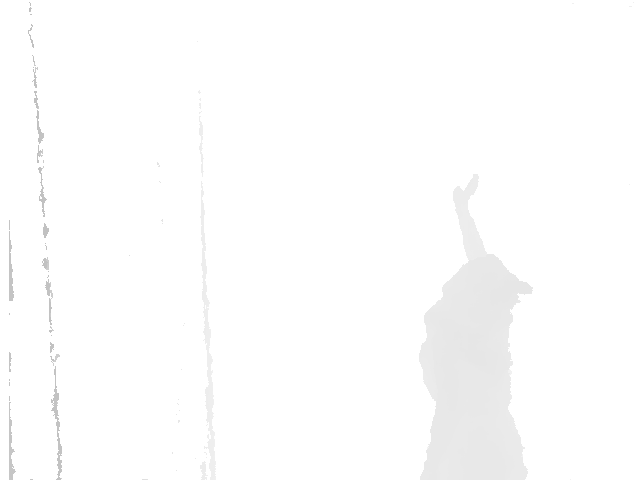hand: (450, 171, 479, 207)
head: (440, 251, 524, 316)
person: (416, 174, 534, 480)
